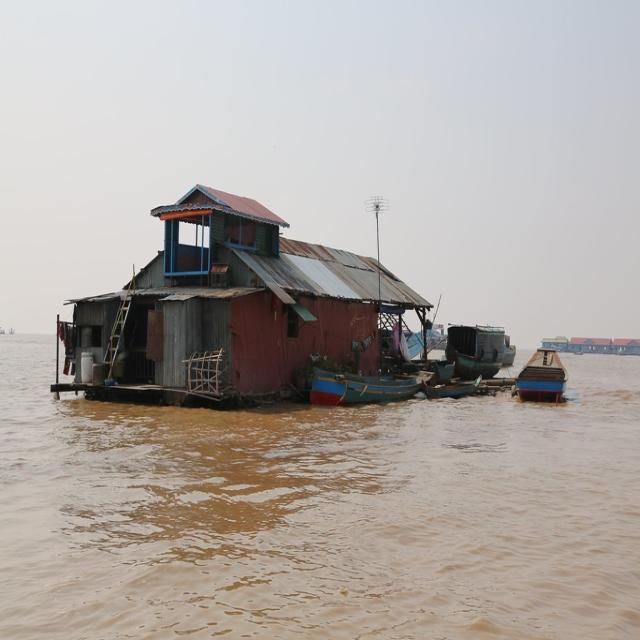Hyacinth: (505, 338, 587, 410)
Raft: (46, 168, 408, 418)
boat: (306, 378, 428, 411)
